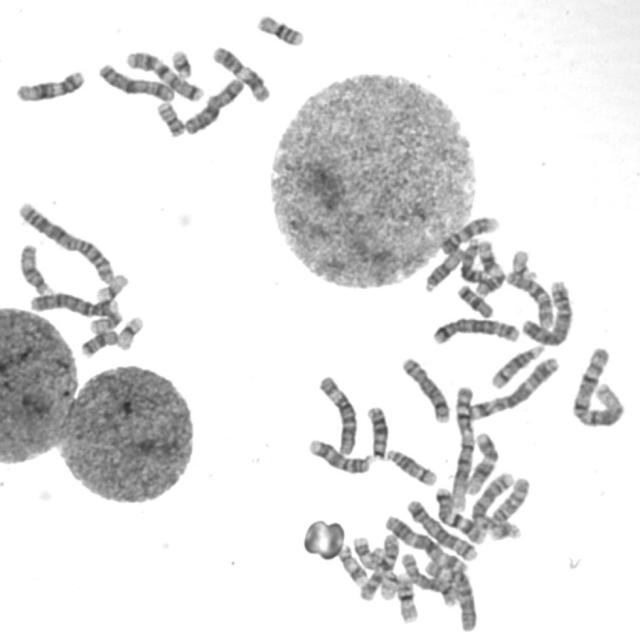A1: (568, 342, 628, 430), (447, 382, 476, 515)
A2: (13, 197, 118, 284), (470, 471, 530, 532)
A3: (464, 352, 563, 422), (382, 512, 472, 572)
B4: (518, 276, 576, 346), (26, 288, 125, 322)
B5: (403, 495, 479, 564), (429, 313, 523, 346)
C10: (502, 267, 556, 330), (355, 530, 401, 602)
C11: (208, 42, 274, 104), (472, 236, 507, 297)
C12: (12, 65, 88, 104), (464, 429, 501, 497)
C6: (422, 558, 480, 632), (315, 371, 360, 456)
C7: (123, 46, 207, 102), (432, 484, 489, 544)
C8: (398, 352, 454, 424), (398, 548, 461, 606)
C9: (305, 435, 373, 476), (439, 212, 501, 256)
D13: (364, 402, 391, 462), (457, 234, 489, 284)
D14: (488, 340, 547, 390), (382, 445, 440, 487)
D15: (422, 242, 467, 294), (16, 240, 55, 297)
E16: (253, 10, 307, 47), (393, 570, 421, 624)
E17: (336, 542, 369, 587), (350, 533, 389, 571)
E18: (454, 280, 496, 320), (77, 326, 122, 359)
F19: (115, 312, 146, 352), (93, 270, 131, 302)
F20: (153, 98, 187, 138), (87, 306, 123, 335)
G21: (168, 44, 195, 80), (486, 518, 523, 543)
G22: (509, 245, 539, 282), (376, 570, 402, 601)
X: (182, 73, 246, 136), (95, 59, 177, 102)
